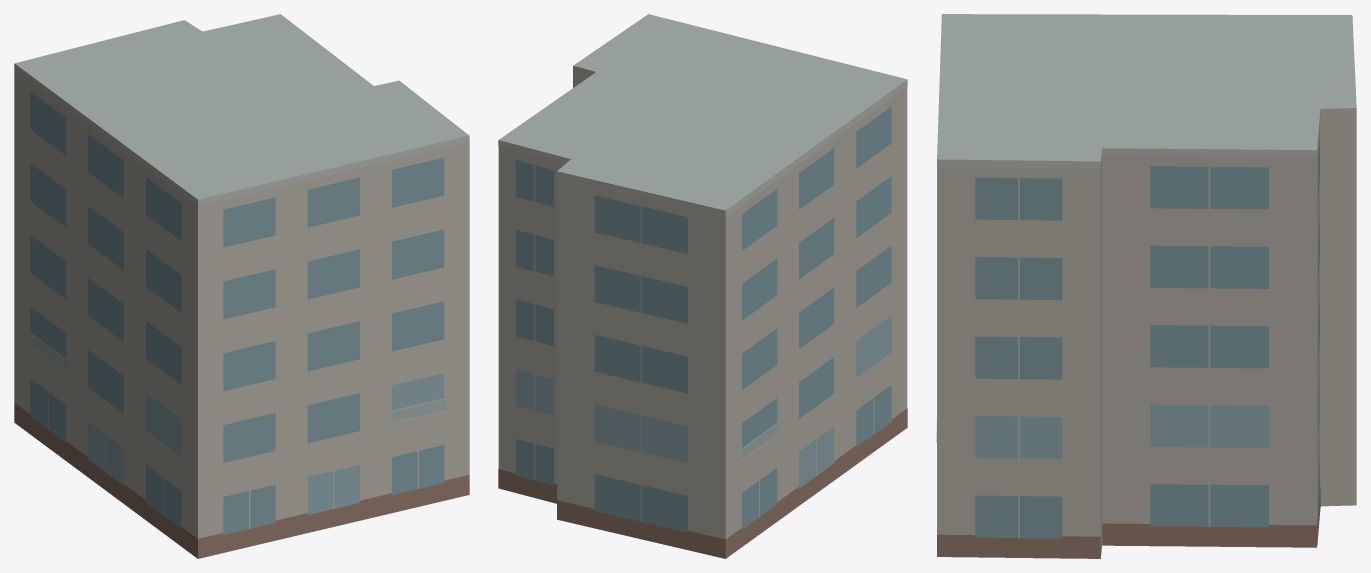
File: survey-upis-32921704.glb
3 views of the same model, side by side, from view 1: azimuth 30°, elevation 25°; view 2: azimuth 150°, elevation 25°; view 3: azimuth 270°, elevation 25° (orthographic). The views are drawn at different scales.
Parts seen in each view (by area): view 1: survey-upis-32921704.tmp; view 2: survey-upis-32921704.tmp; view 3: survey-upis-32921704.tmp.
Part boxes in pixels (x1,y1,x2,y2): survey-upis-32921704.tmp: [14, 14, 469, 558]; survey-upis-32921704.tmp: [498, 14, 907, 558]; survey-upis-32921704.tmp: [936, 14, 1356, 558].
Size of the model in its own units: 10.43 by 13.1 by 12.57.
